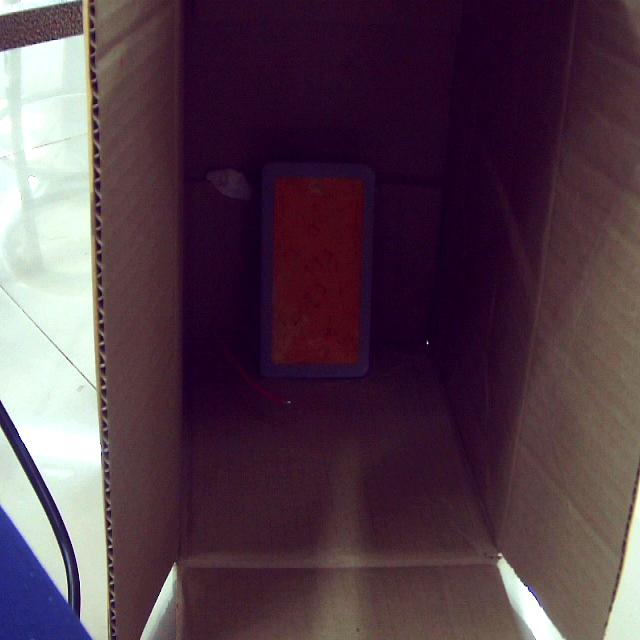block: (258, 162, 376, 382)
